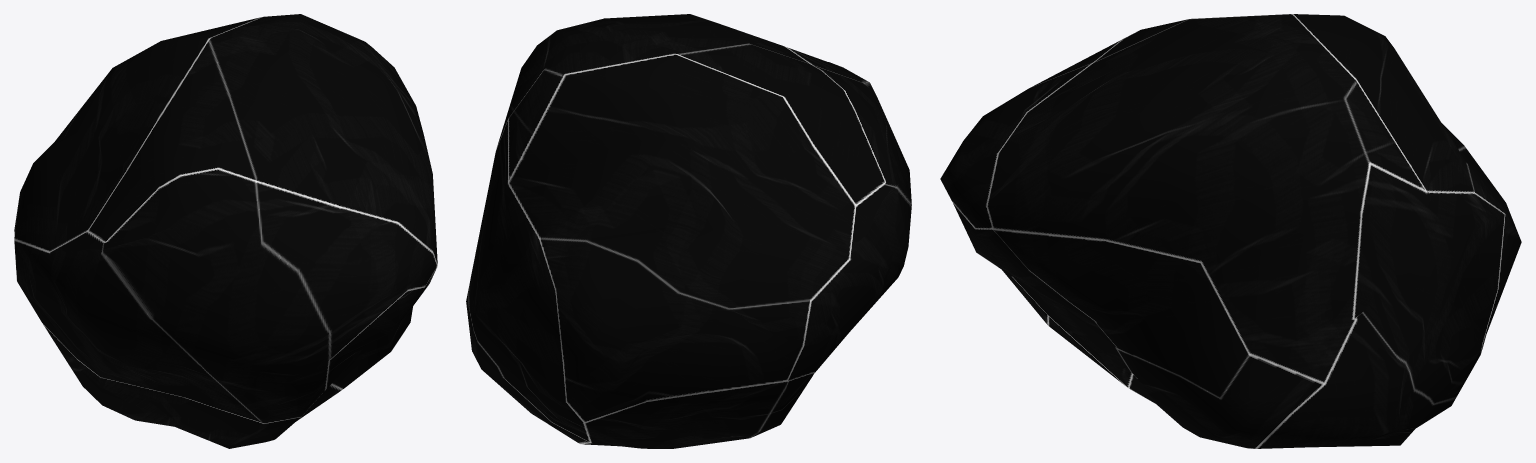
Rendered from Rock_Low.fbx.
3 views of the same model, side by side, from view 1: azimuth 30°, elevation 25°; view 2: azimuth 150°, elevation 25°; view 3: azimuth 270°, elevation 25° (orthographic). The views are drawn at different scales.
Visible parts, largest first — view 1: Rock_001; view 2: Rock_001; view 3: Rock_001.
Part boxes in pixels (x1,y1,x2,y2): Rock_001: (14,14,437,448); Rock_001: (466,14,911,448); Rock_001: (940,14,1521,448).
Bounding box in the file's own units: 181 × 175 × 224.
